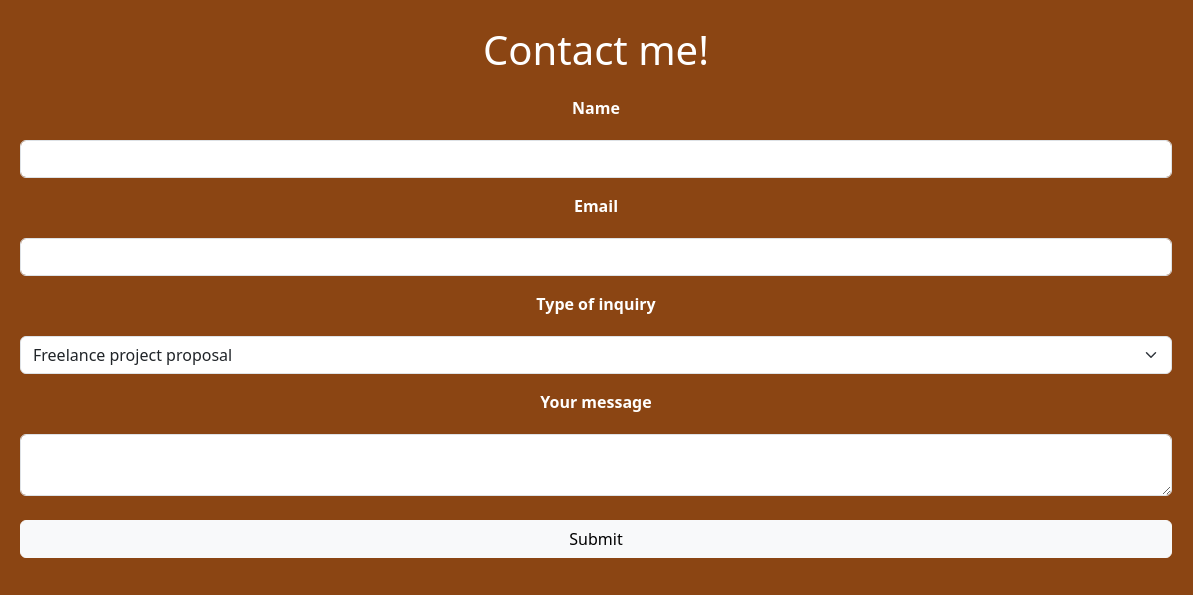
Test case: shows required message for Email on blur when empty
Click the field labelled "Email" at (596, 257), box top-left (20, 238), bottom-right (1172, 276)
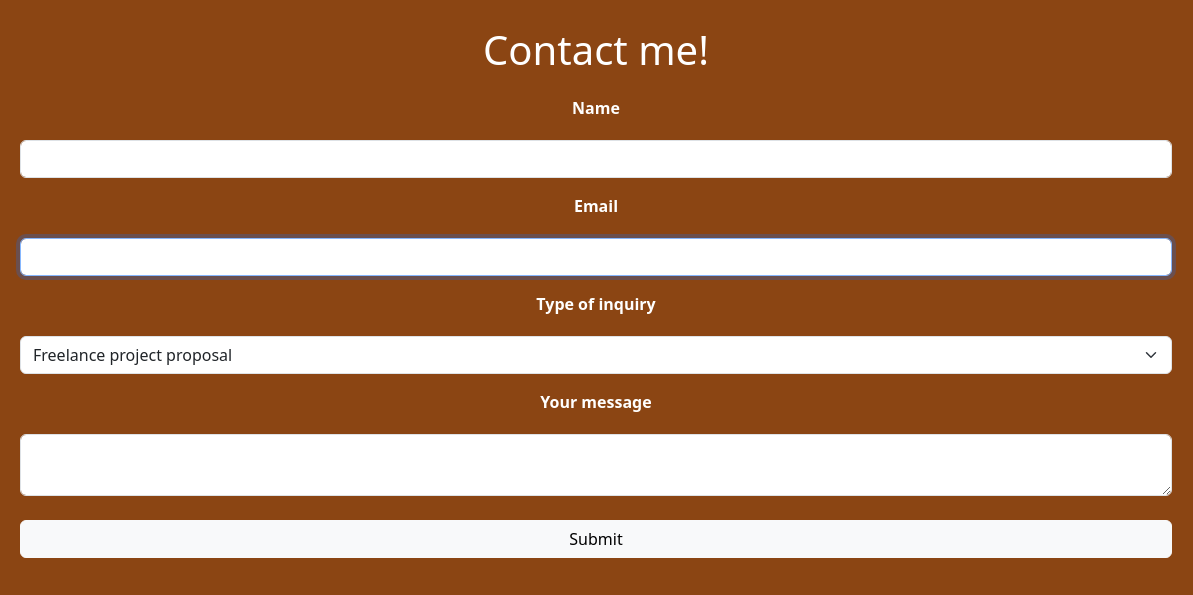
Press Tab
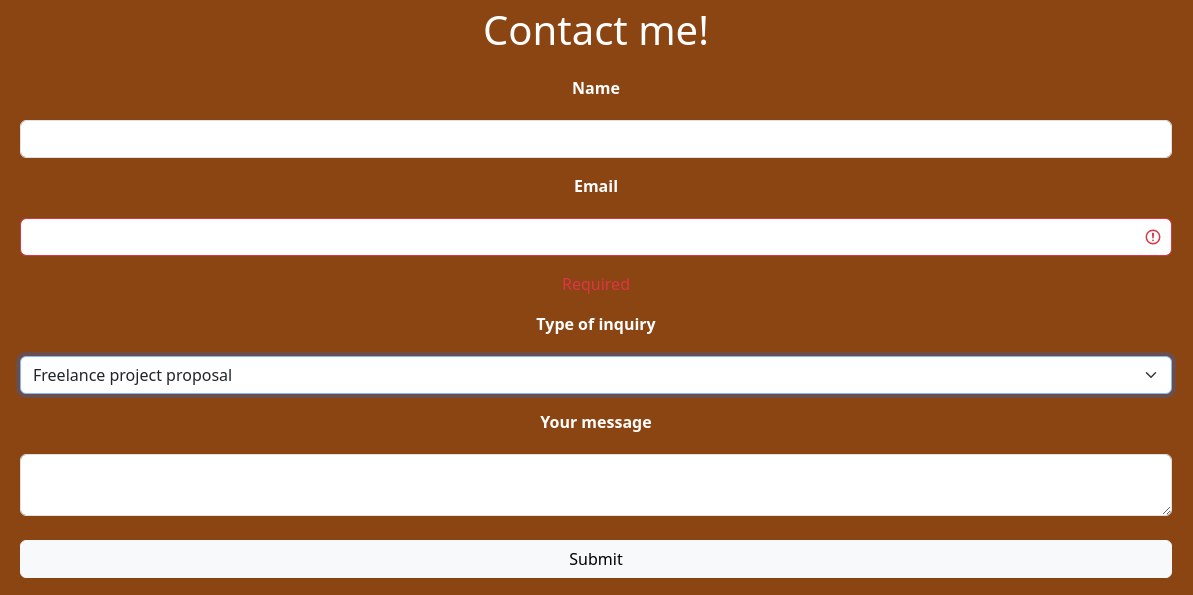
expect the text "Required" is shown: met, box top-left (562, 273), bottom-right (630, 295)
